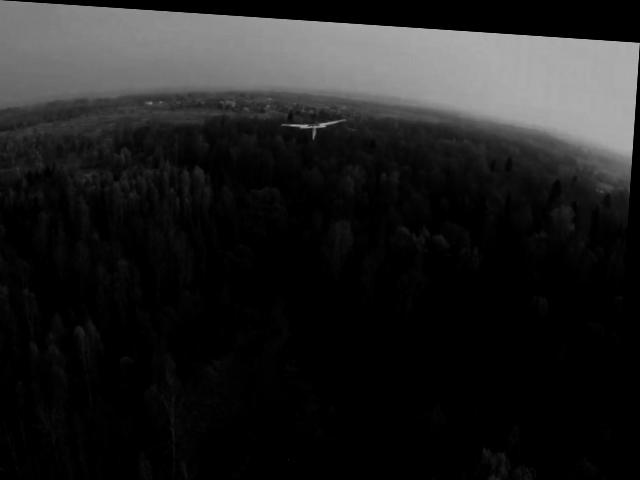hedef: (281, 110, 348, 141)
